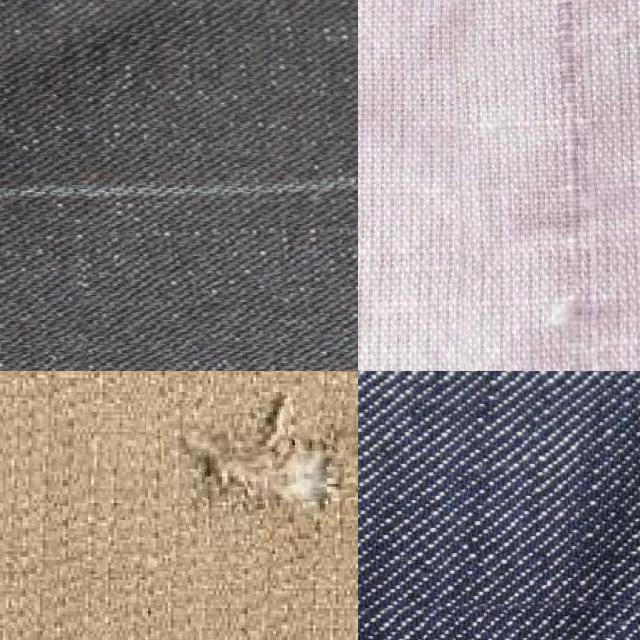other: (146, 397, 358, 569)
stains: (451, 0, 640, 371), (0, 270, 89, 371)
